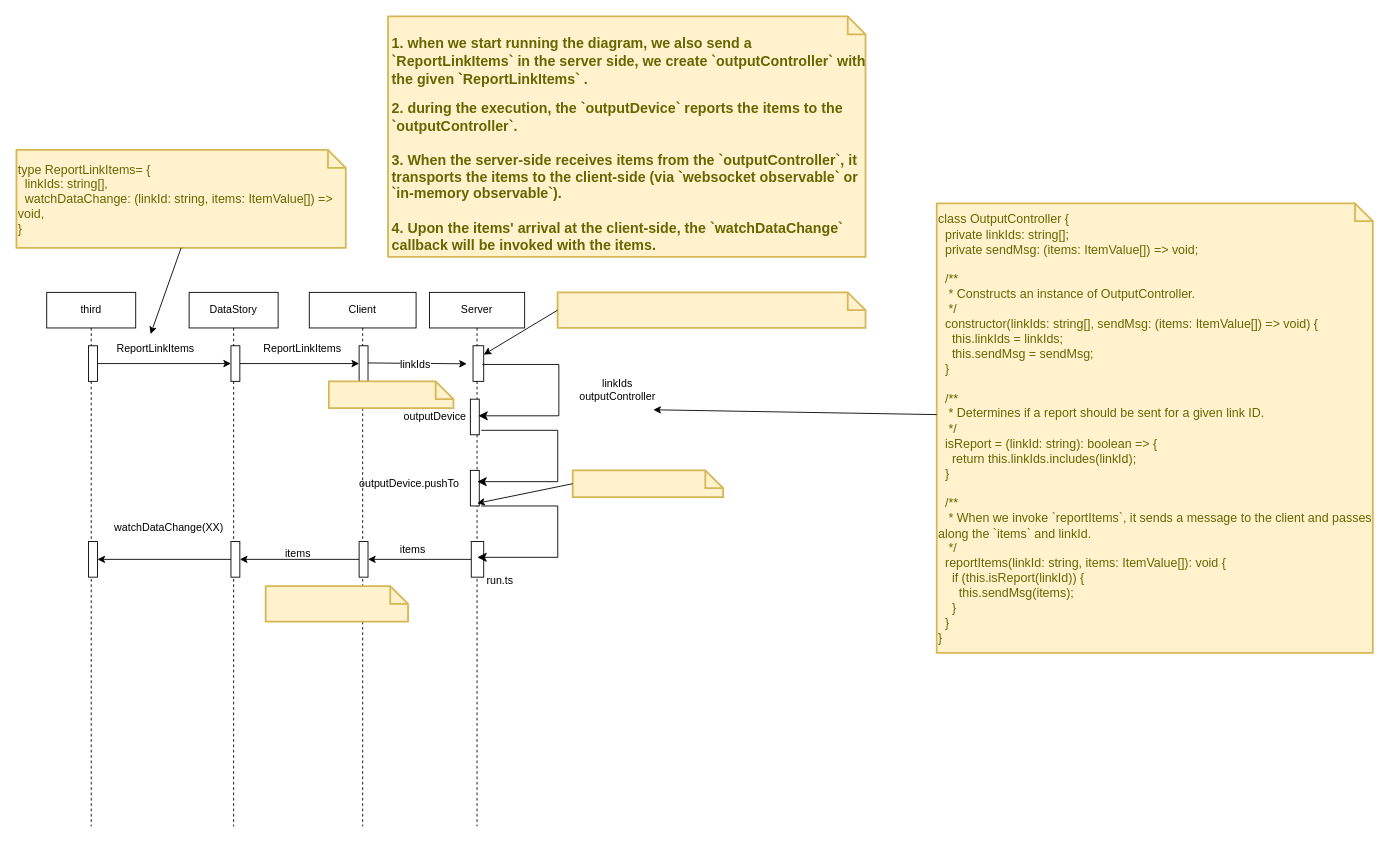
Some shapes in this 1388 by 842 pixel diagram are drawn without their labels. The centre of each missing label's shape, as x and y in pixels:
"// run.ts outputController = new OutputController(linkIds, sendMsg);" goes at pixel 711 309.
"reportItems(linkId, items)" goes at pixel 647 483.
"run(diagram, linkIds)" goes at pixel 391 394.
"watchDataChange (items)" goes at pixel 336 603.
